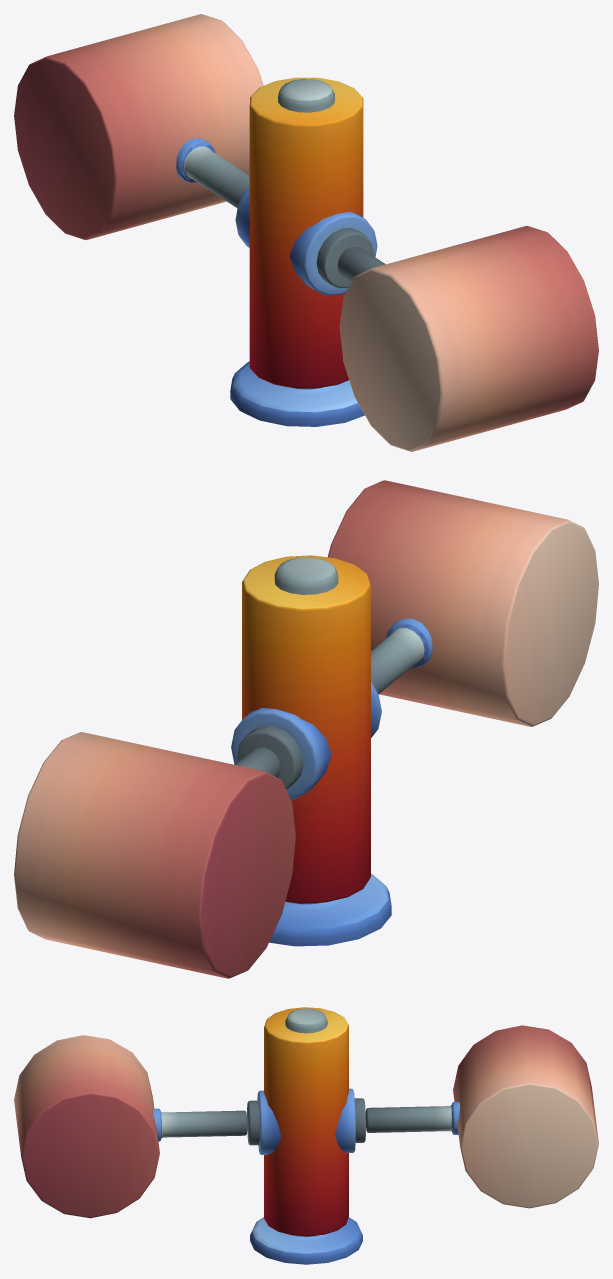
The model's file is obstacle1.fbx.
3 renders of one model, top to bottom at view 1: azimuth 30°, elevation 25°; view 2: azimuth 150°, elevation 25°; view 3: azimuth 270°, elevation 25°, orthographic. The views are drawn at different scales.
Parts seen in each view (by area): view 1: Cylinder.012_Color_Pallete_0, Cylinder.008_Color_Pallete_0; view 2: Cylinder.012_Color_Pallete_0, Cylinder.008_Color_Pallete_0; view 3: Cylinder.012_Color_Pallete_0, Cylinder.008_Color_Pallete_0.
Part boxes in pixels (x1=…): Cylinder.012_Color_Pallete_0: x1=14, y1=14, x2=598, y2=451; Cylinder.008_Color_Pallete_0: x1=230, y1=79, x2=364, y2=426; Cylinder.012_Color_Pallete_0: x1=14, y1=480, x2=598, y2=978; Cylinder.008_Color_Pallete_0: x1=269, y1=557, x2=391, y2=946; Cylinder.012_Color_Pallete_0: x1=14, y1=1007, x2=598, y2=1236; Cylinder.008_Color_Pallete_0: x1=250, y1=1008, x2=362, y2=1264.
Size of the model in its own units: 59.02 by 87.05 by 204.
